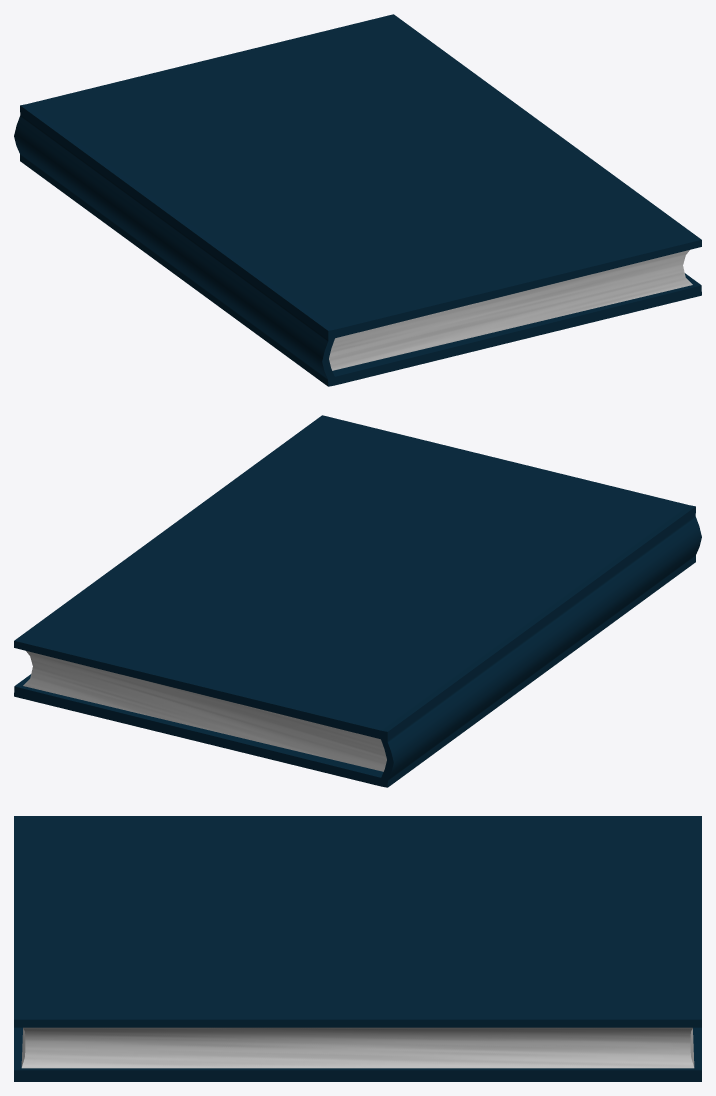
Rendered from closedBook_lp.fbx.
3 views of the same model, one above another, from view 1: azimuth 30°, elevation 25°; view 2: azimuth 150°, elevation 25°; view 3: azimuth 270°, elevation 25° (orthographic). The views are drawn at different scales.
Visible parts, largest first — view 1: closedBook_lp; view 2: closedBook_lp; view 3: closedBook_lp.
Boxes of the visible parts, x1,y1,x2,y2 form: closedBook_lp: [14, 14, 701, 386]; closedBook_lp: [14, 415, 701, 787]; closedBook_lp: [14, 816, 701, 1081].
Bounding box in the file's own units: 12.89 × 1.82 × 18.11.
2 materials, 2 textured.
